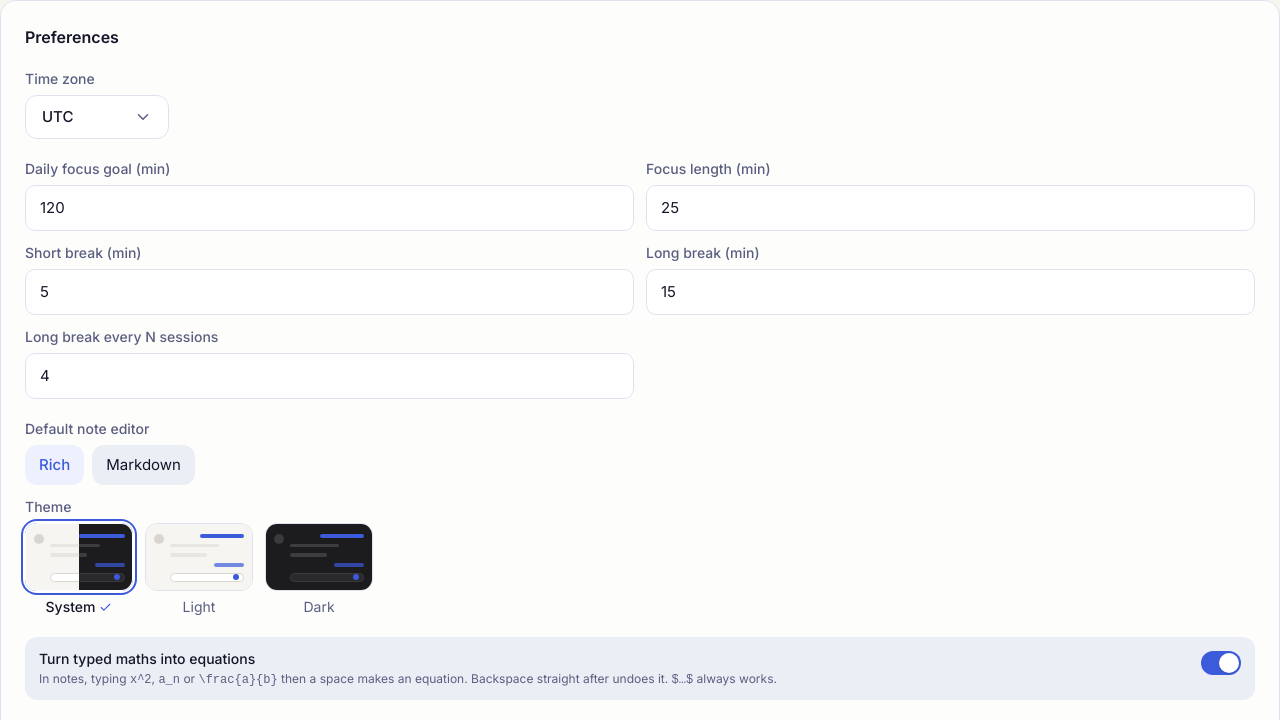
Test: Settings save › explains an unsupported time zone instead of a generic error
The width and height of the screenshot is (1280, 720).
Replace the text in the number field labelled "Focus length (min)" with "31" at (950, 208), box top-left (646, 185), bottom-right (1255, 231)
(page scrolled)
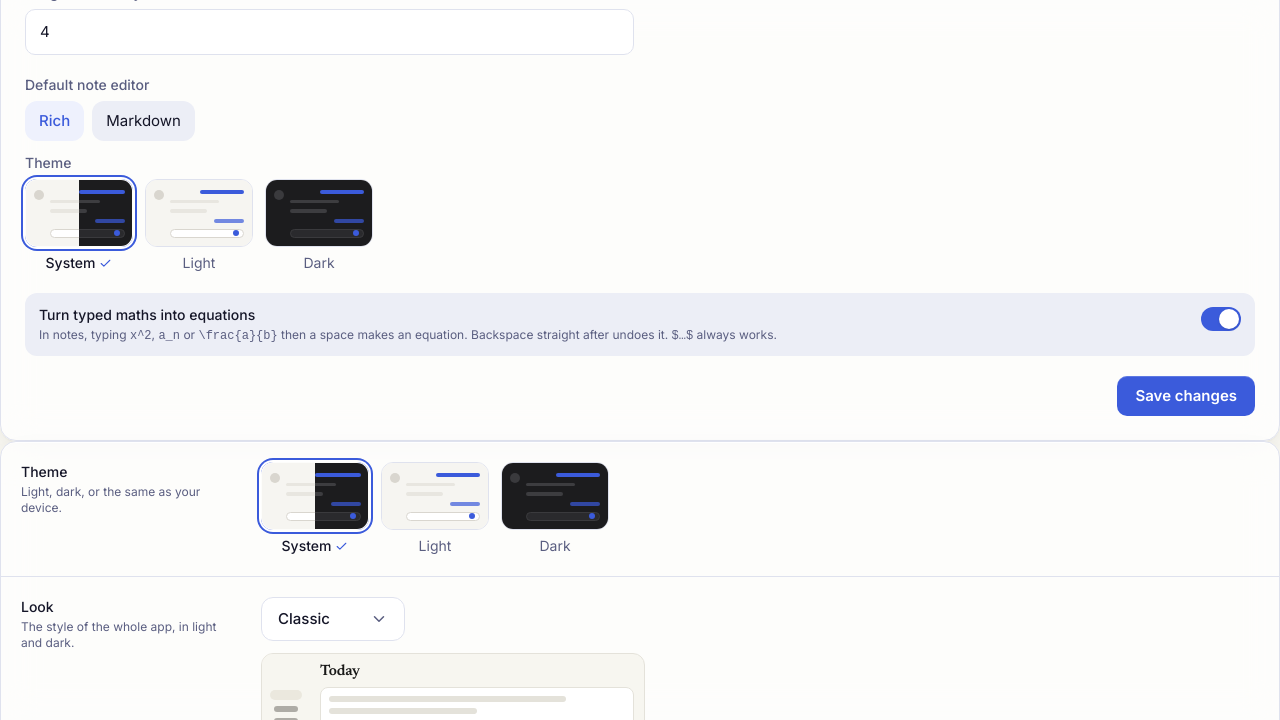
Click the button "Save changes".
click(1186, 396)  # box top-left (1118, 376), bottom-right (1255, 416)
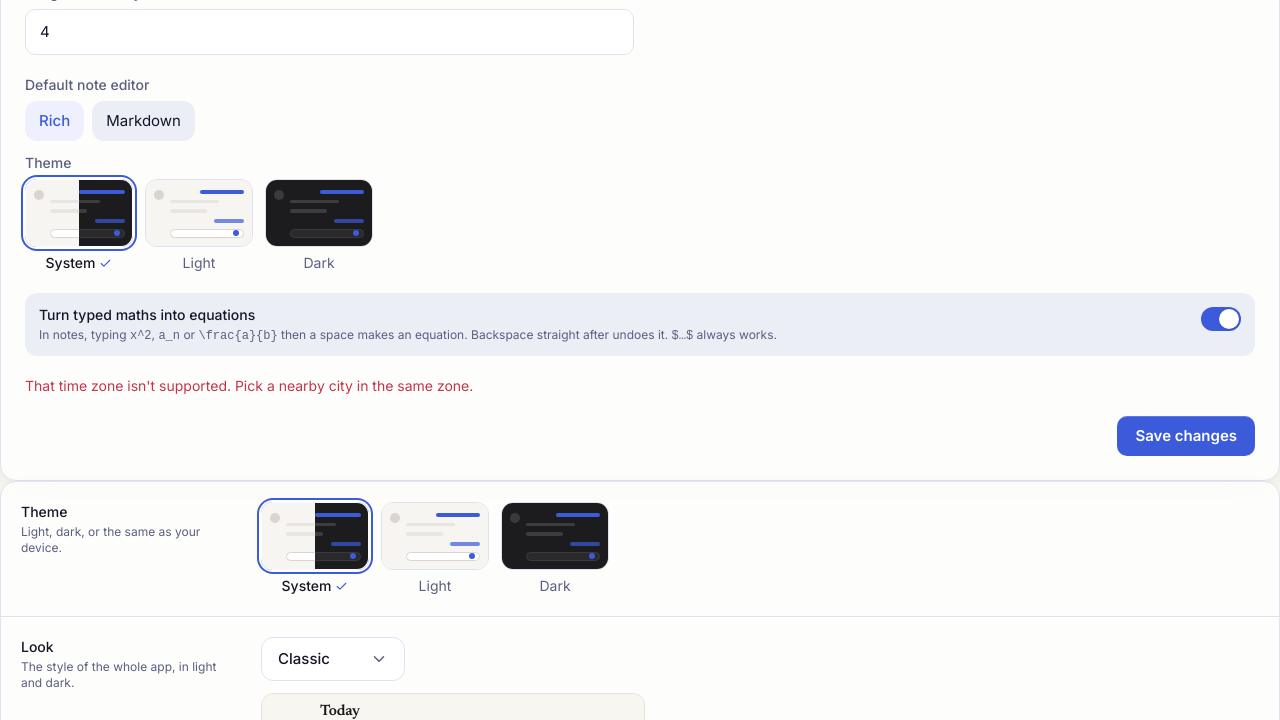
Check: the message shows "time zone isn't supported", box top-left (25, 377), bottom-right (473, 394)
